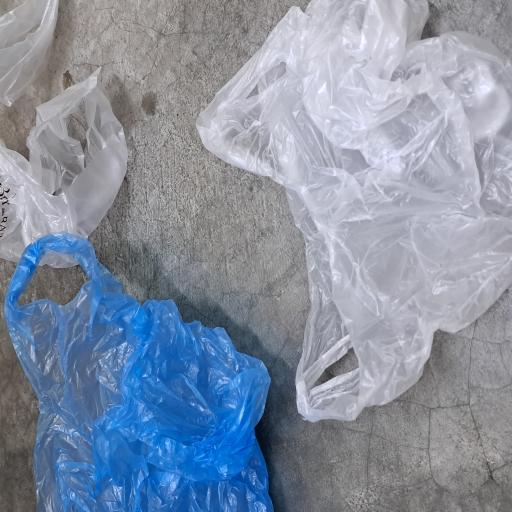plastic bag: (66, 251, 382, 512), (3, 2, 211, 366), (182, 0, 383, 195)
